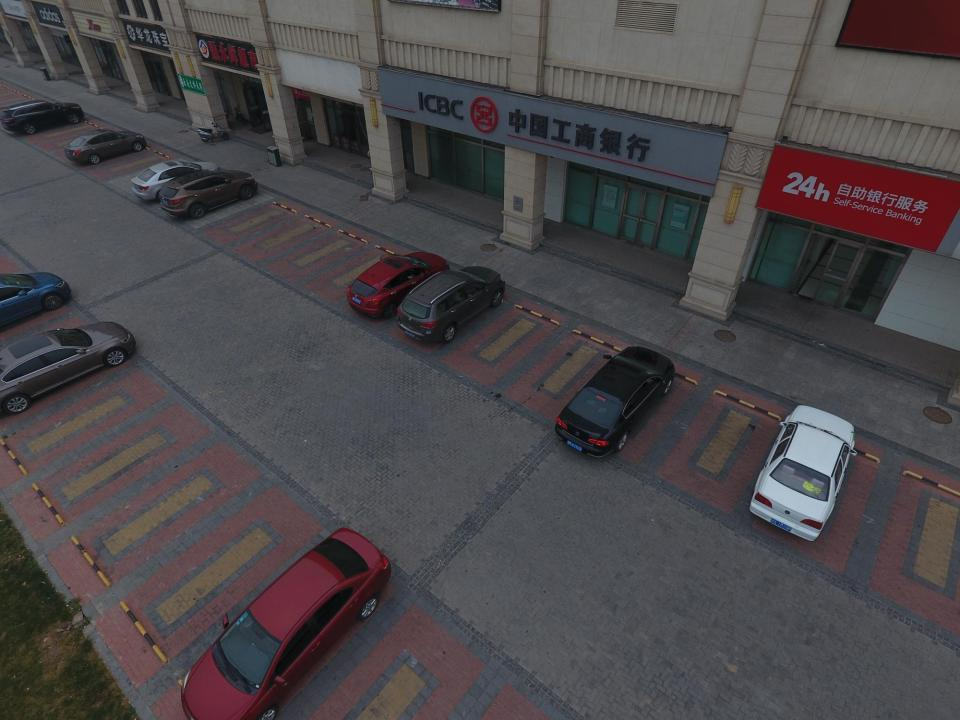car: (164, 525, 394, 718), (750, 403, 860, 542), (552, 341, 678, 458), (0, 321, 137, 413), (397, 264, 510, 346), (346, 249, 452, 318), (158, 169, 262, 218), (127, 159, 230, 207), (0, 263, 68, 332), (61, 128, 148, 166), (4, 98, 86, 136)
